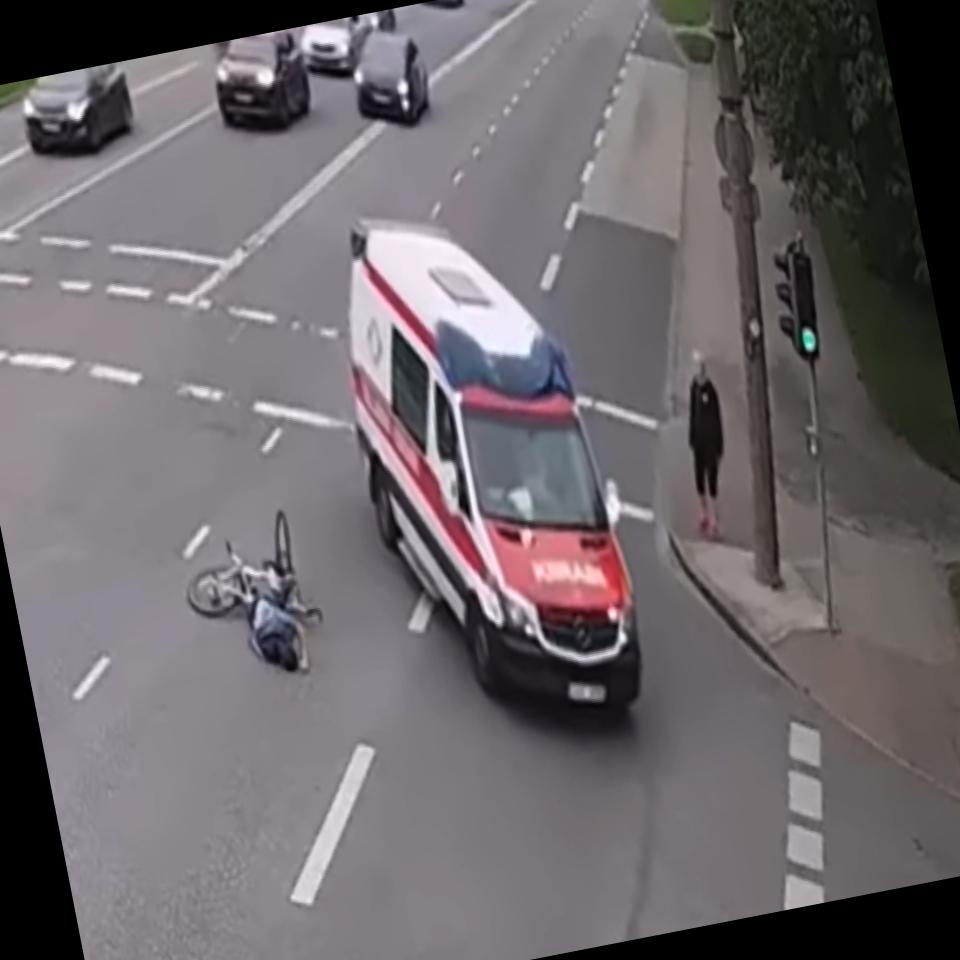bombeiro: (314, 177, 657, 748)
